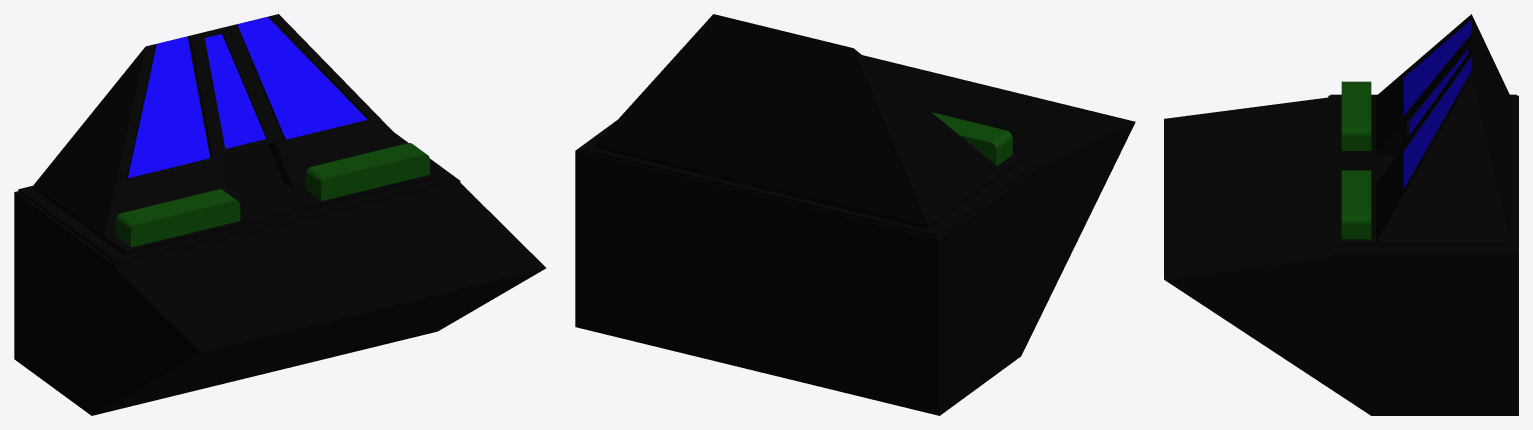
3 views of the same model, side by side, from view 1: azimuth 30°, elevation 25°; view 2: azimuth 150°, elevation 25°; view 3: azimuth 270°, elevation 25° (orthographic). The views are drawn at different scales.
Visible parts, largest first — view 1: Cube; view 2: Cube; view 3: Cube.
Boxes of the visible parts, box(x1,y1,x2,y2) form: Cube: box(14, 14, 546, 415); Cube: box(575, 14, 1135, 415); Cube: box(1164, 14, 1518, 415).
Bounding box in the file's own units: 2000 × 1684 × 1863.
